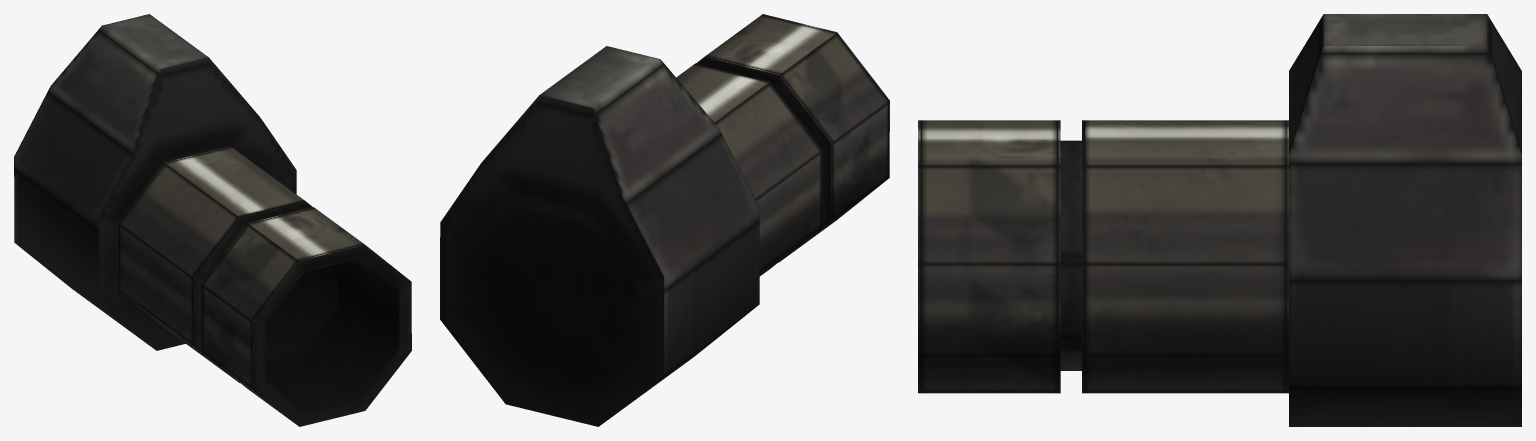
The model's file is SniperRifle_Warfare_Muzzle_0.FBX.
3 views of the same model, side by side, from view 1: azimuth 30°, elevation 25°; view 2: azimuth 150°, elevation 25°; view 3: azimuth 270°, elevation 25° (orthographic). The views are drawn at different scales.
Parts seen in each view (by area): view 1: mesh_muzzle; view 2: mesh_muzzle; view 3: mesh_muzzle.
Boxes of the visible parts, x1,y1,x2,y2 form: mesh_muzzle: (14,14,411,426); mesh_muzzle: (440,14,889,426); mesh_muzzle: (918,14,1521,426).
Size of the model in its own units: 0.0384 by 0.0497 by 0.0736.
